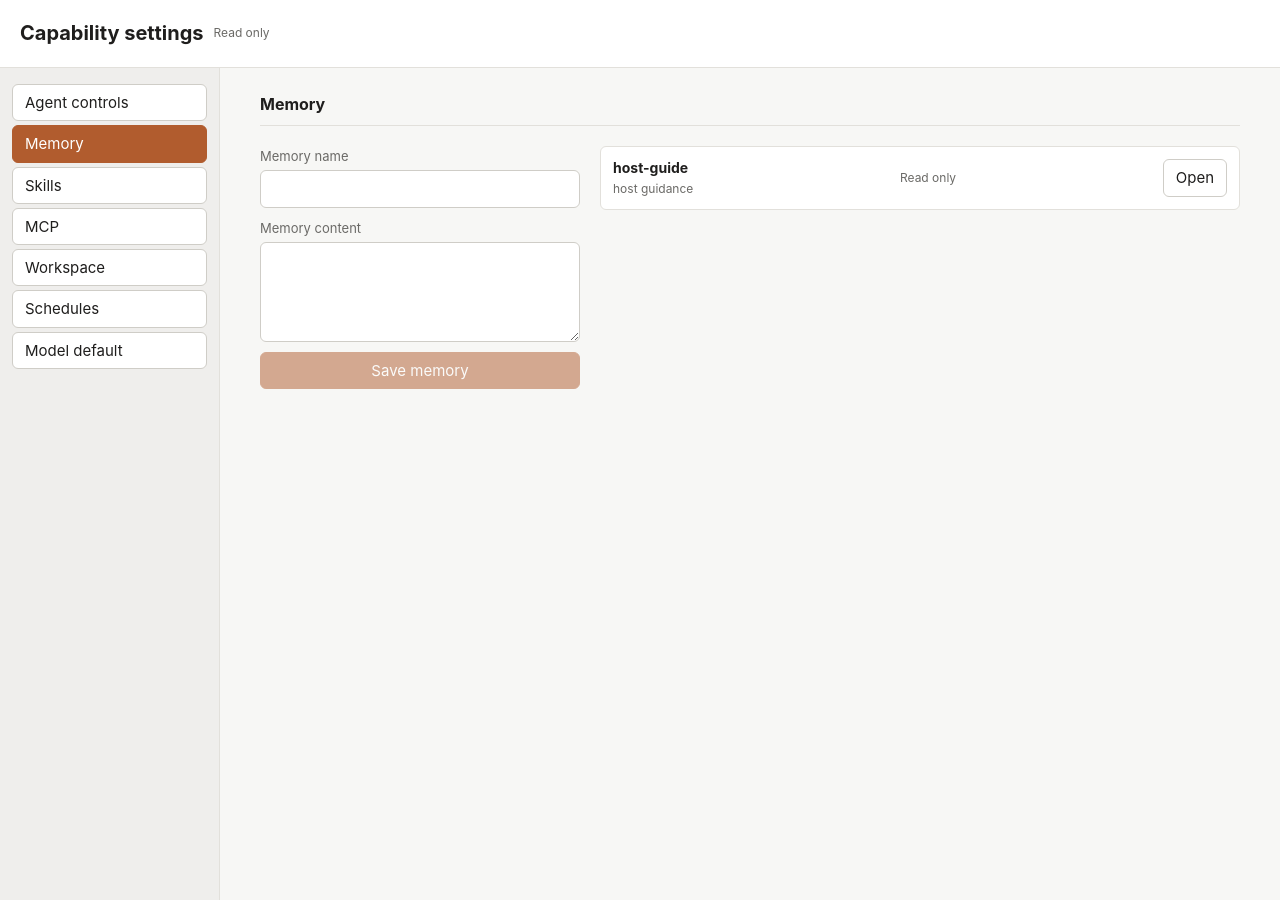
Test: CapabilitySettingsView › keeps action-driven shared Open available when mutations are disabled
Click the button "Open" at (1195, 178), box [1163,159,1227,197]
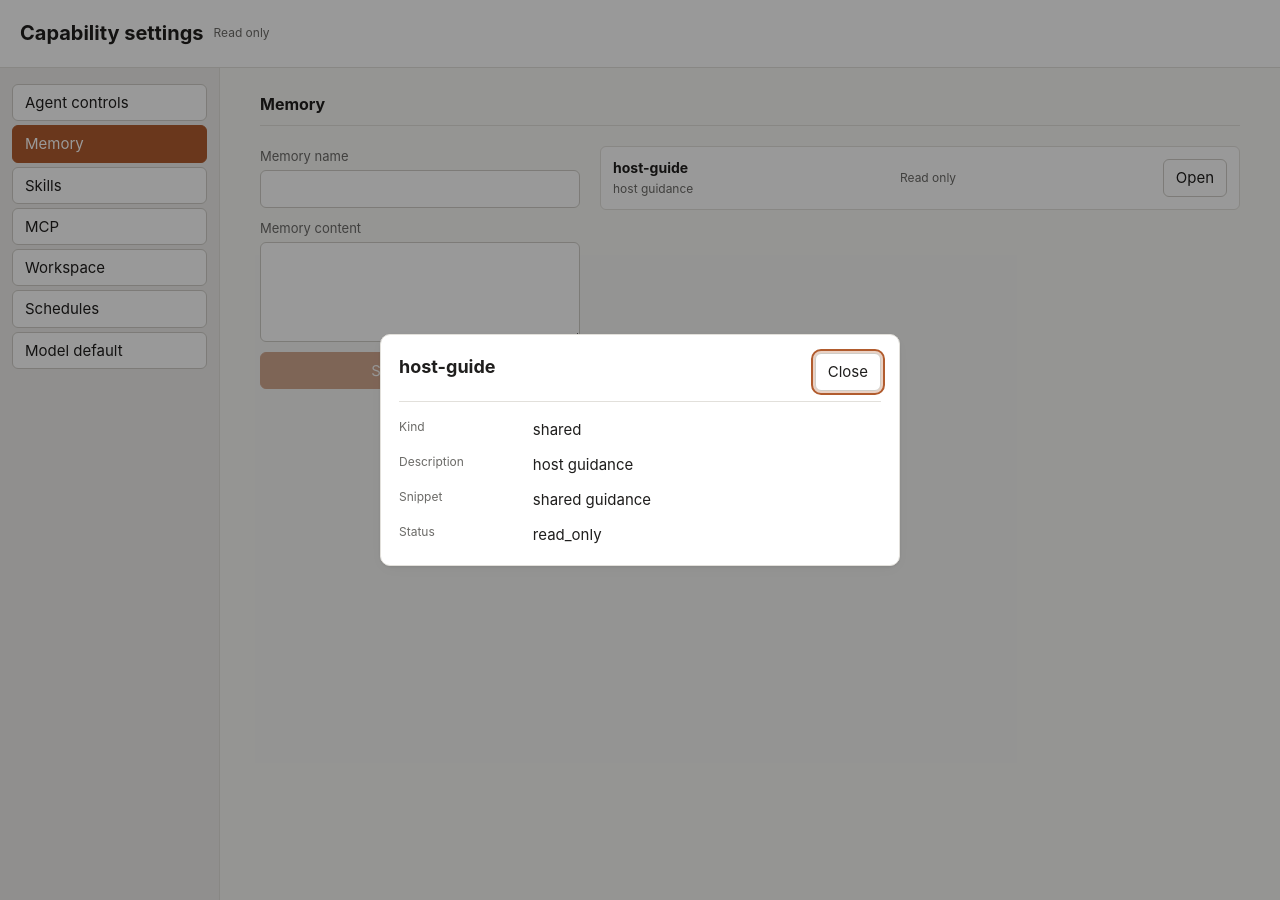
expect the dialog named "host-guide details" is shown: met, box [380,334,900,566]
